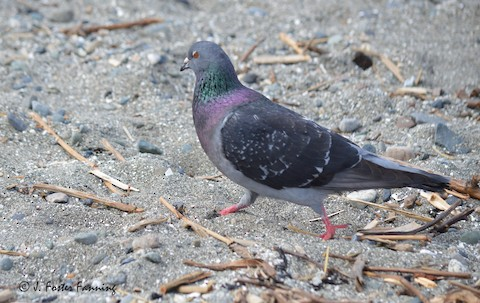pigeon: (179, 37, 459, 240)
